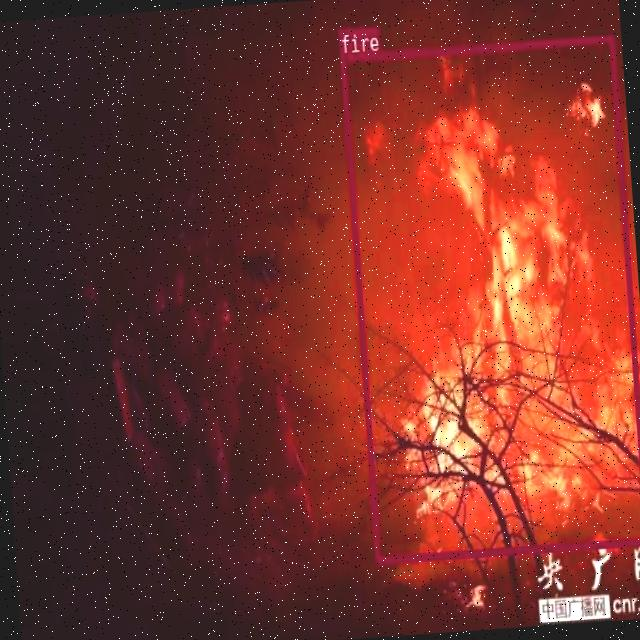fire: (339, 35, 640, 562)
